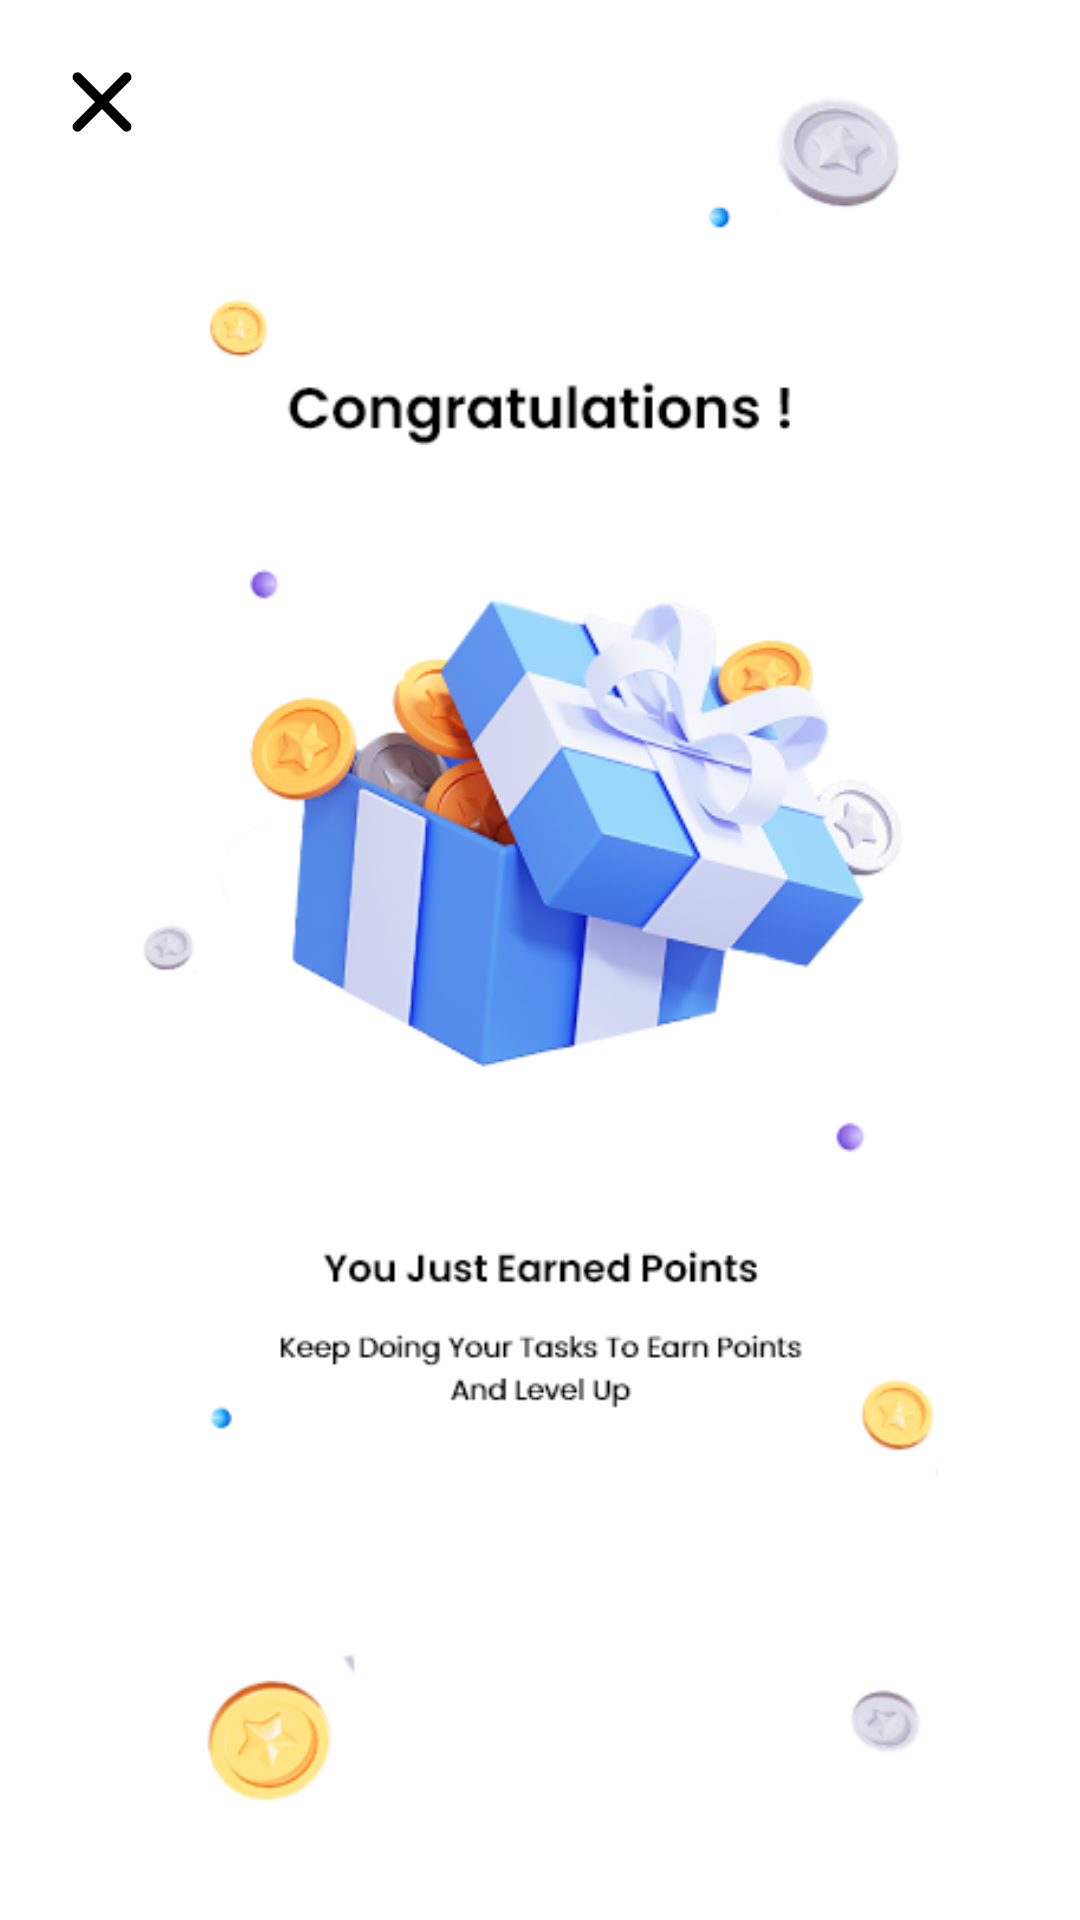

Named icons in this screenshot (1080×1920) and their centers, [x,y]:
closebtn: [102,102]
